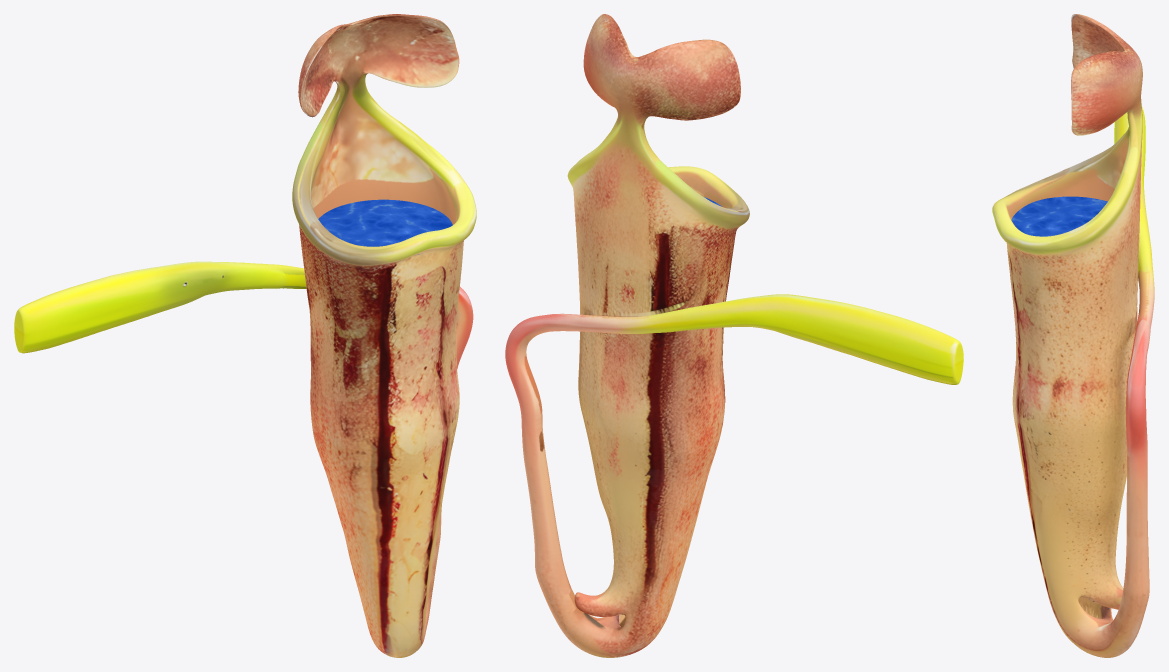
The model's file is Nepenthes micramphora.glb.
3 renders of one model, left to right at view 1: azimuth 30°, elevation 25°; view 2: azimuth 150°, elevation 25°; view 3: azimuth 270°, elevation 25°, orthographic. The views are drawn at different scales.
Parts seen in each view (by area): view 1: model, Object_2; view 2: model; view 3: model, Object_2.
Boxes of the visible parts, <box> form: model: <box>14,14,476,657</box>; Object_2: <box>318,199,452,254</box>; model: <box>505,14,963,657</box>; model: <box>992,14,1154,657</box>; Object_2: <box>1011,196,1107,236</box>.
Bounding box in the file's own units: 4.22 × 5.66 × 1.39.
2 materials, 2 textured.
